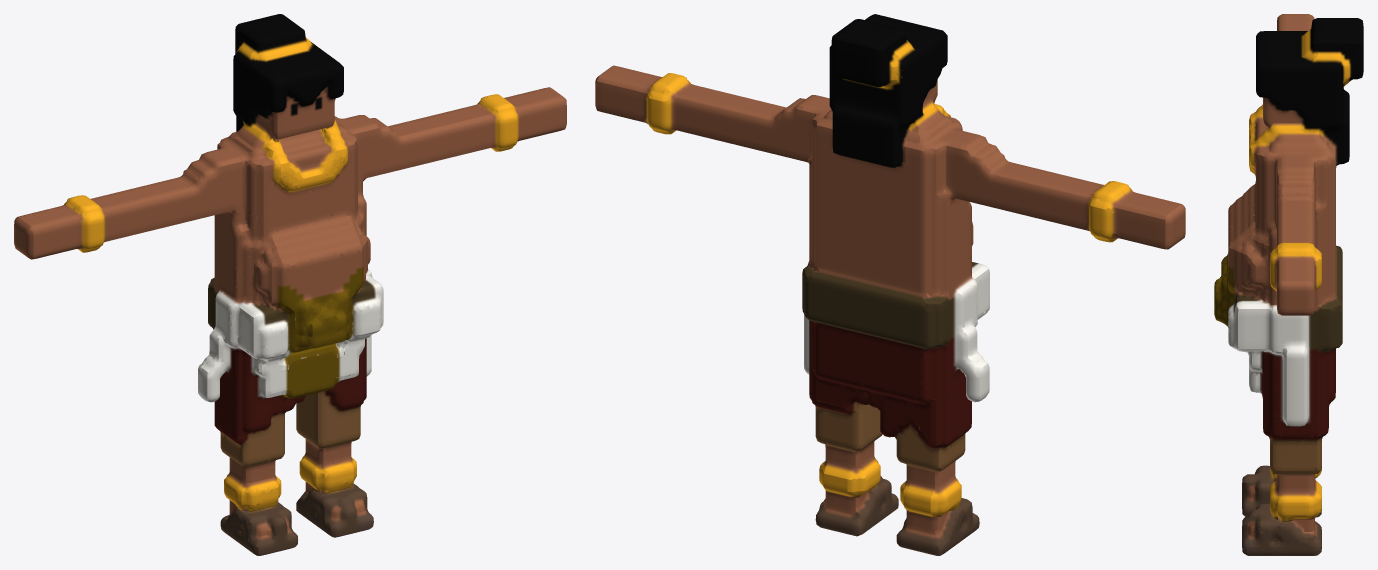
Rendered from Gajah_Mada.fbx.
3 views of the same model, side by side, from view 1: azimuth 30°, elevation 25°; view 2: azimuth 150°, elevation 25°; view 3: azimuth 270°, elevation 25° (orthographic). The views are drawn at different scales.
Parts seen in each view (by area): view 1: Object; view 2: Object; view 3: Object.
Part boxes in pixels (x1=…): Object: x1=14, y1=14, x2=566, y2=555; Object: x1=595, y1=14, x2=1185, y2=555; Object: x1=1214, y1=14, x2=1363, y2=555.
Bounding box in the file's own units: 9.21 × 7.92 × 2.14.
1 material, 1 textured.
